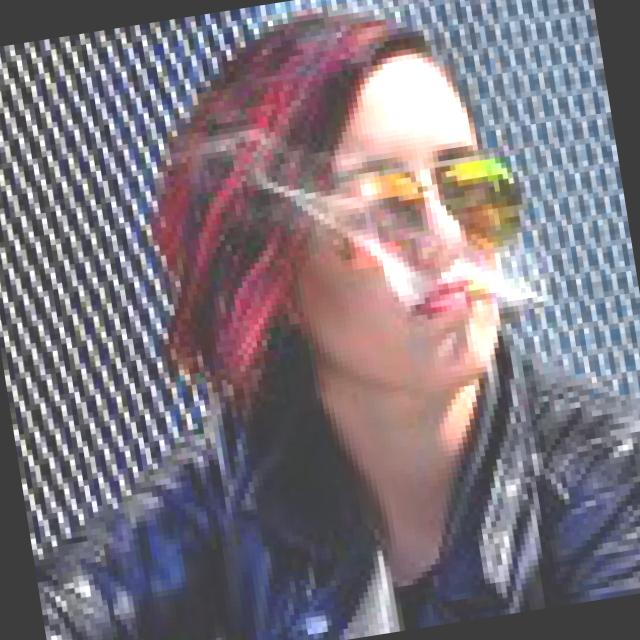smoke: (449, 267, 553, 328)
